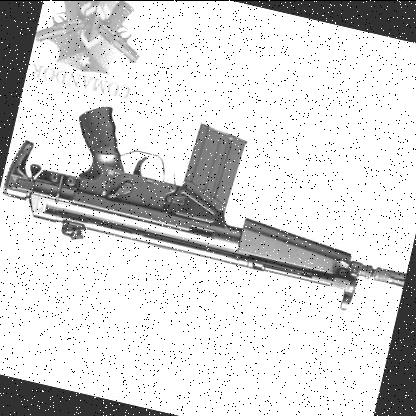rifle: (0, 65, 416, 349)
